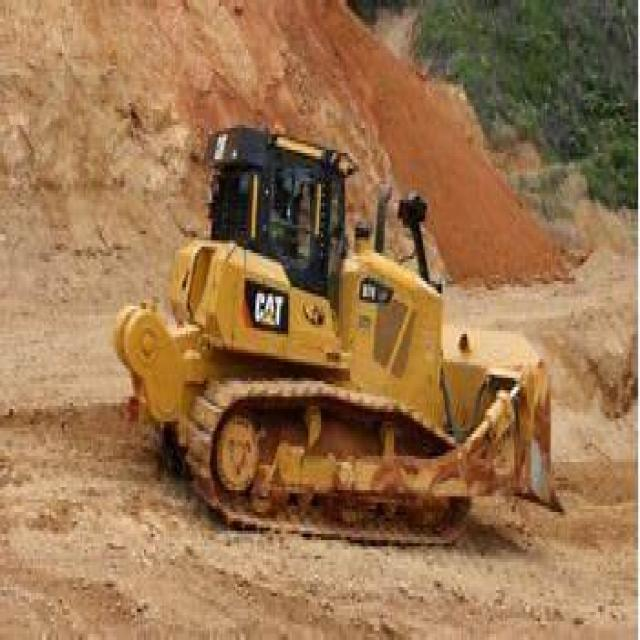Bulldozer: (84, 100, 614, 627)
